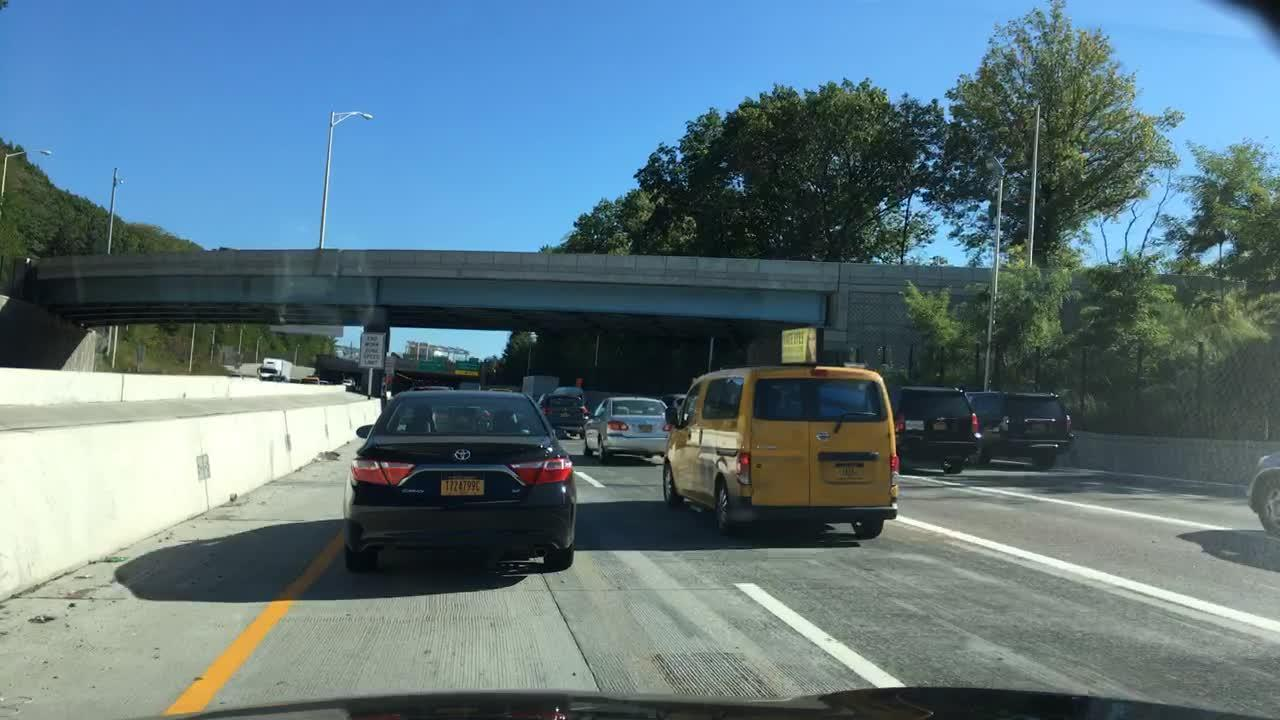Nissan: (812, 426, 836, 446)
Toyota: (442, 441, 482, 463)
